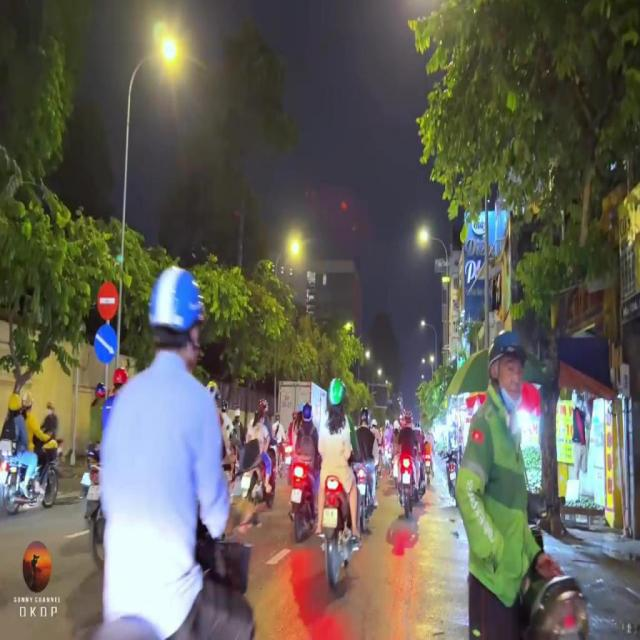cam_xe_di_nguoc_chieu: (95, 281, 119, 321)
huong_phai_di_vuot_chuong_ngai_vat_phai: (94, 321, 118, 363)
